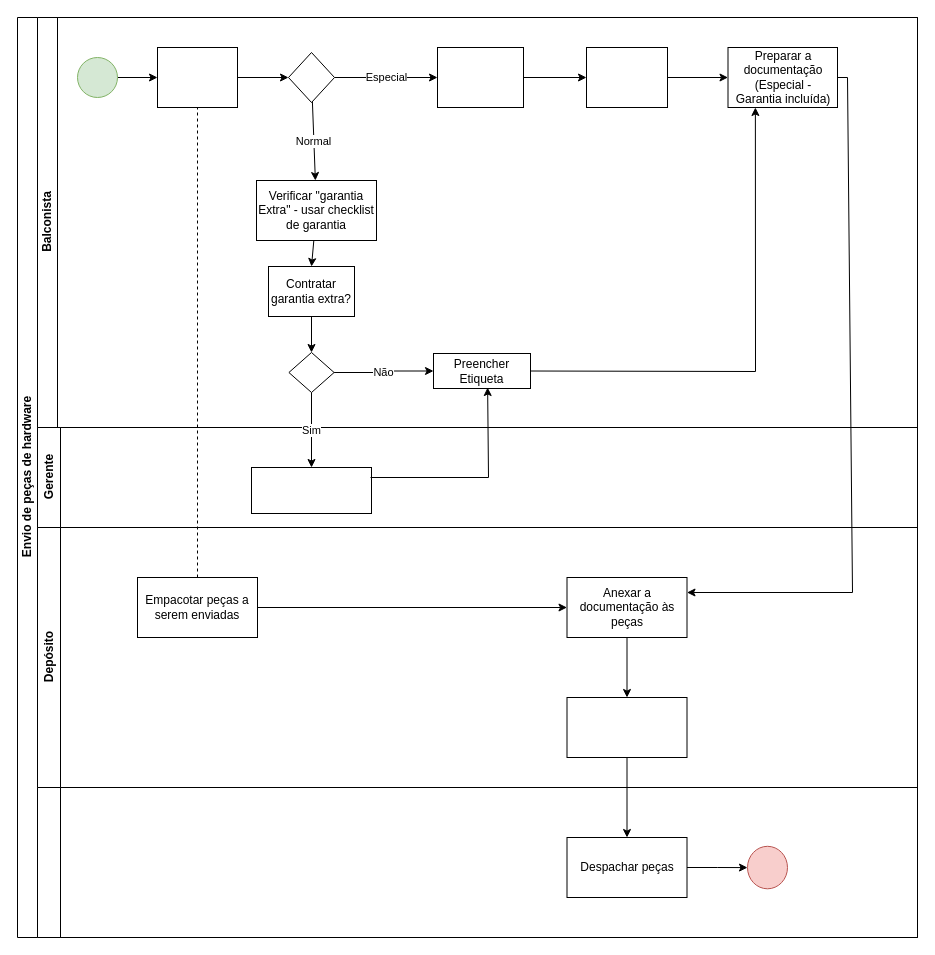
Some shapes in this 935 by 955 pixel diagram are drawn without their labels. Here are the shapes that lost their labels. From the top down, the box of each, then its label:
(156, 46, 238, 108): Selecionar tipo de entrega
(436, 46, 524, 108): Solicitar cotação à transportadora
(586, 46, 668, 108): Selecionar transportadora
(250, 466, 372, 514): Executar contratação
(566, 696, 687, 758): Enviar para setor de entrega
(36, 786, 918, 938): Entrega
